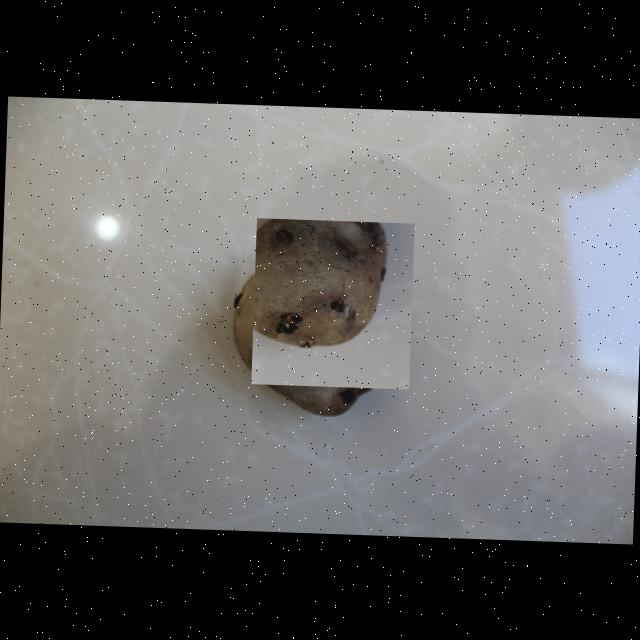Diseased-fungal potato: (250, 218, 414, 389)
